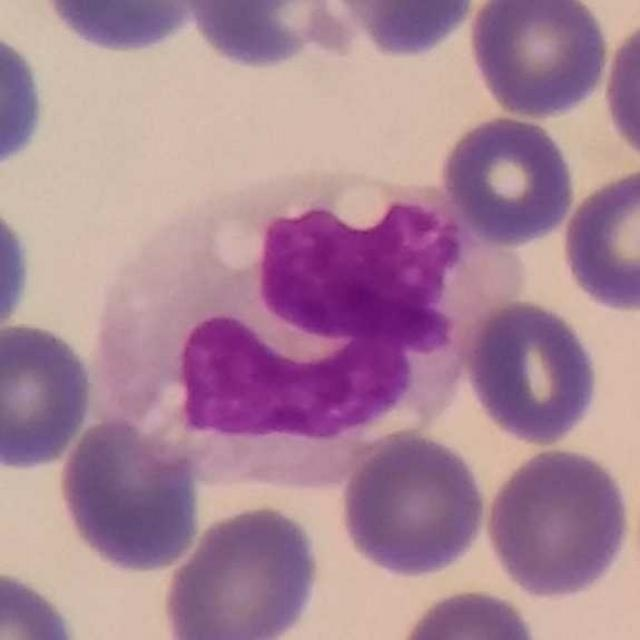Monocyte: (85, 161, 521, 488)
RBC: (53, 413, 205, 578), (482, 444, 634, 602), (336, 427, 490, 581), (159, 501, 325, 640), (177, 384, 374, 499), (460, 296, 604, 449), (436, 112, 579, 248), (466, 0, 614, 120), (0, 318, 99, 473), (175, 0, 363, 76), (556, 161, 640, 314), (29, 0, 215, 58), (326, 0, 483, 62), (392, 584, 543, 640), (0, 20, 51, 181), (599, 11, 640, 168), (0, 564, 82, 639), (0, 191, 37, 345)
